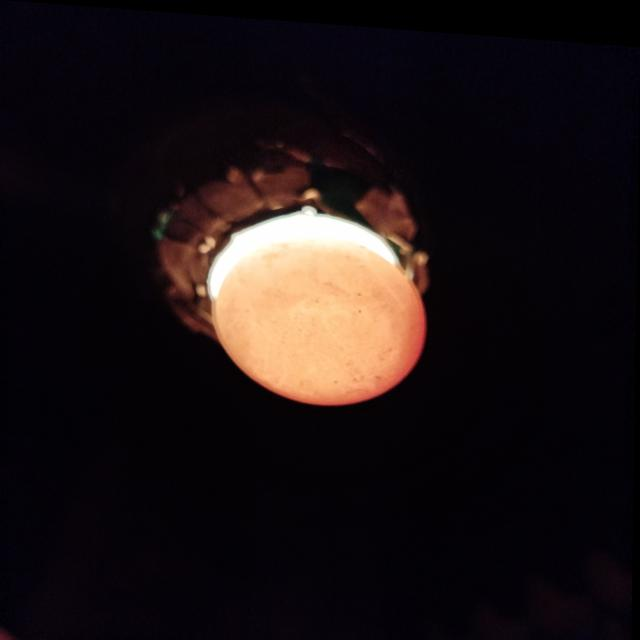Gema Quebrada: (265, 285, 425, 400)
